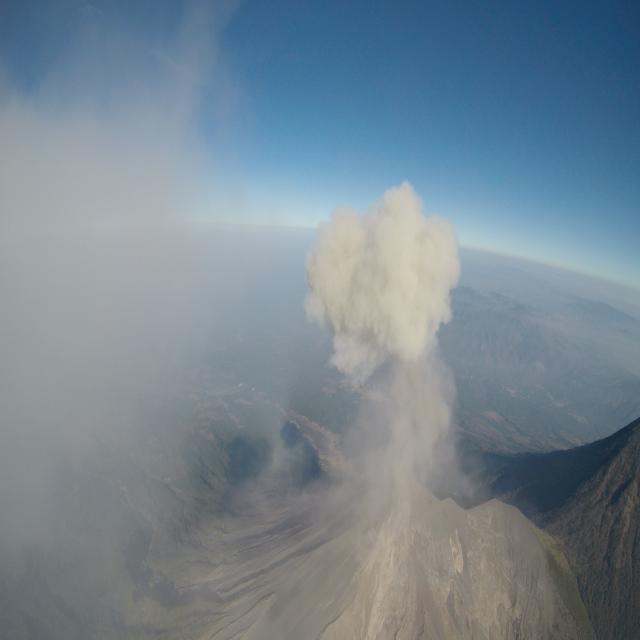Plume: (0, 0, 219, 535), (306, 179, 464, 374)
